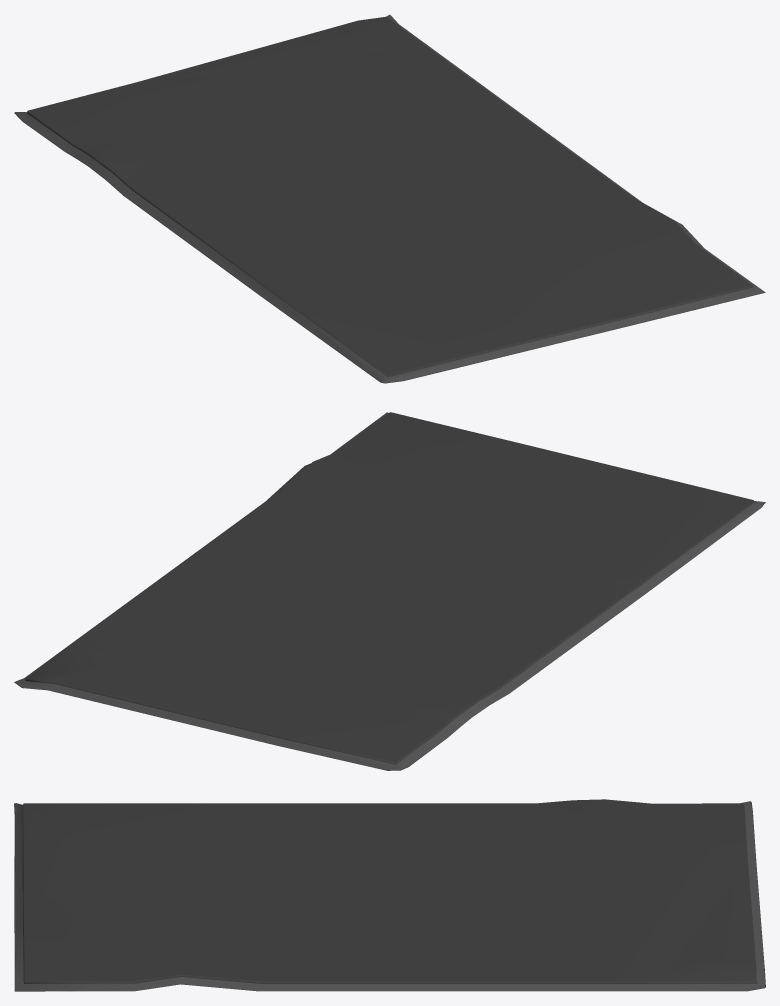
The model's file is SM_Floor_Mat_01a.fbx.
The picture shows the model from 3 angles, top to bottom: view 1: azimuth 30°, elevation 25°; view 2: azimuth 150°, elevation 25°; view 3: azimuth 270°, elevation 25°; orthographic projection.
Parts seen in each view (by area): view 1: SM_Floor_Mat_01a_LOD0; view 2: SM_Floor_Mat_01a_LOD0; view 3: SM_Floor_Mat_01a_LOD0.
Boxes of the visible parts, x1,y1,x2,y2 form: SM_Floor_Mat_01a_LOD0: [14, 14, 765, 383]; SM_Floor_Mat_01a_LOD0: [14, 412, 765, 770]; SM_Floor_Mat_01a_LOD0: [14, 799, 765, 991].
Bounding box in the file's own units: 112 × 191 × 3.71.
Materials: 1 (1 with a texture image).
